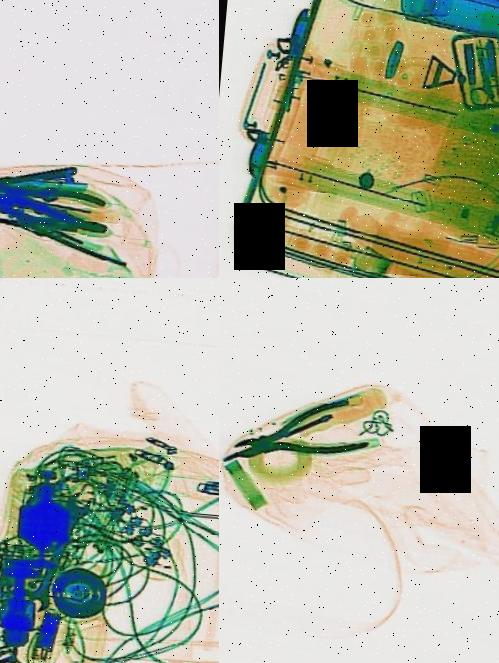Pliers: (231, 378, 376, 490), (0, 170, 112, 234), (0, 154, 80, 235)
Scissors: (454, 36, 499, 110)
Wrench: (23, 482, 97, 618)
